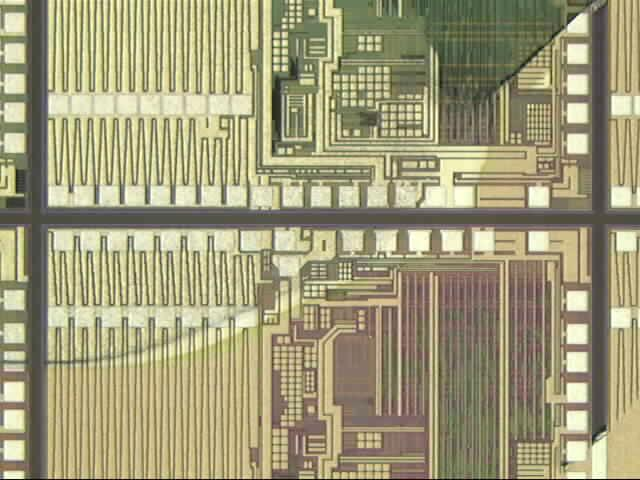COATING BAD: (1, 1, 611, 372)
